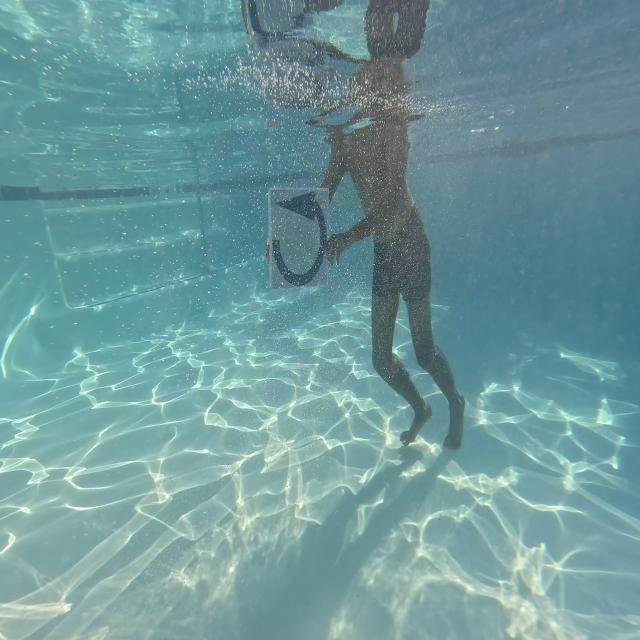blue_side: (264, 190, 338, 284)
